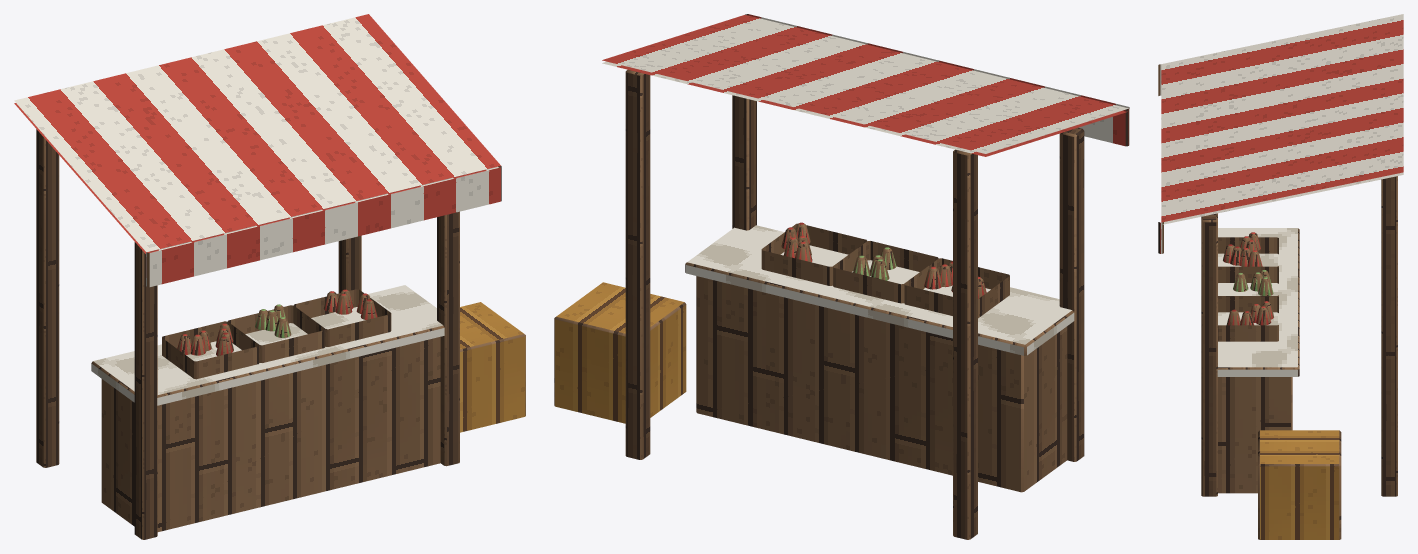
File: market_stall_0.glb
3 views of the same model, side by side, from view 1: azimuth 30°, elevation 25°; view 2: azimuth 150°, elevation 25°; view 3: azimuth 270°, elevation 25° (orthographic). The views are drawn at different scales.
Visible parts, largest first — view 1: market_stall_1; view 2: market_stall_1; view 3: market_stall_1.
Part boxes in pixels (x1=…): market_stall_1: x1=14, y1=14, x2=525, y2=539; market_stall_1: x1=554, y1=14, x2=1129, y2=539; market_stall_1: x1=1158, y1=14, x2=1403, y2=539.
Bounding box in the file's own units: 3.31 × 2.65 × 1.77.
Materials: 7 (7 with a texture image).
